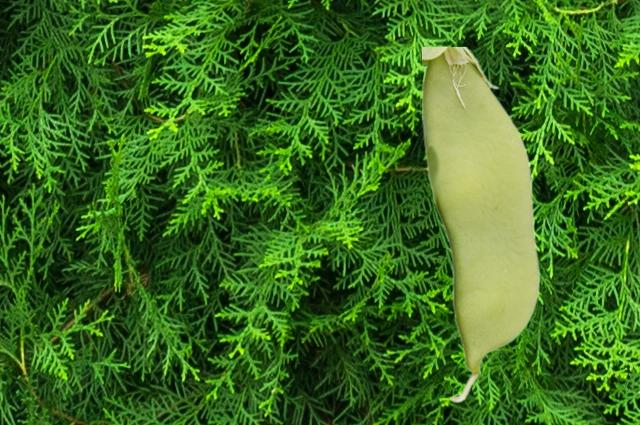pea: (422, 47, 539, 402)
